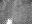person: (7, 20, 11, 24)
